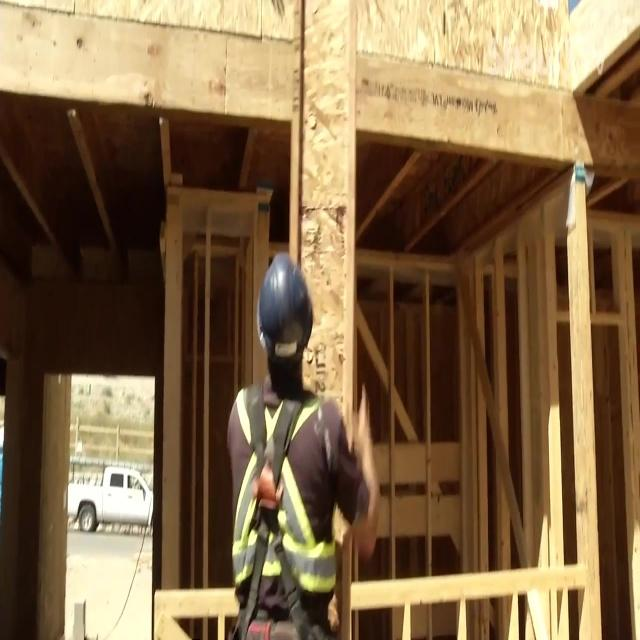helmet: (257, 335, 313, 476)
vest: (230, 511, 337, 640)
